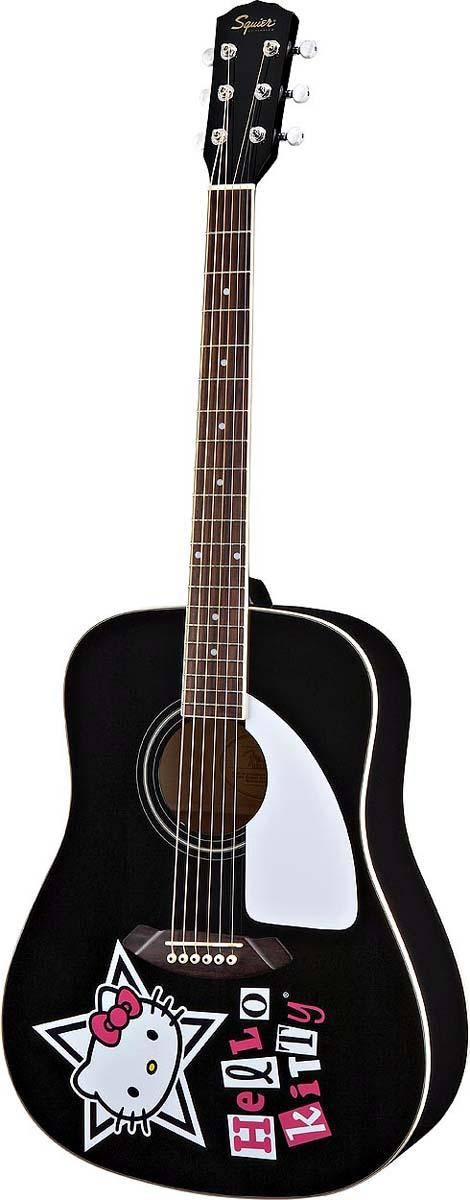guitar: (5, 1, 470, 1200)
